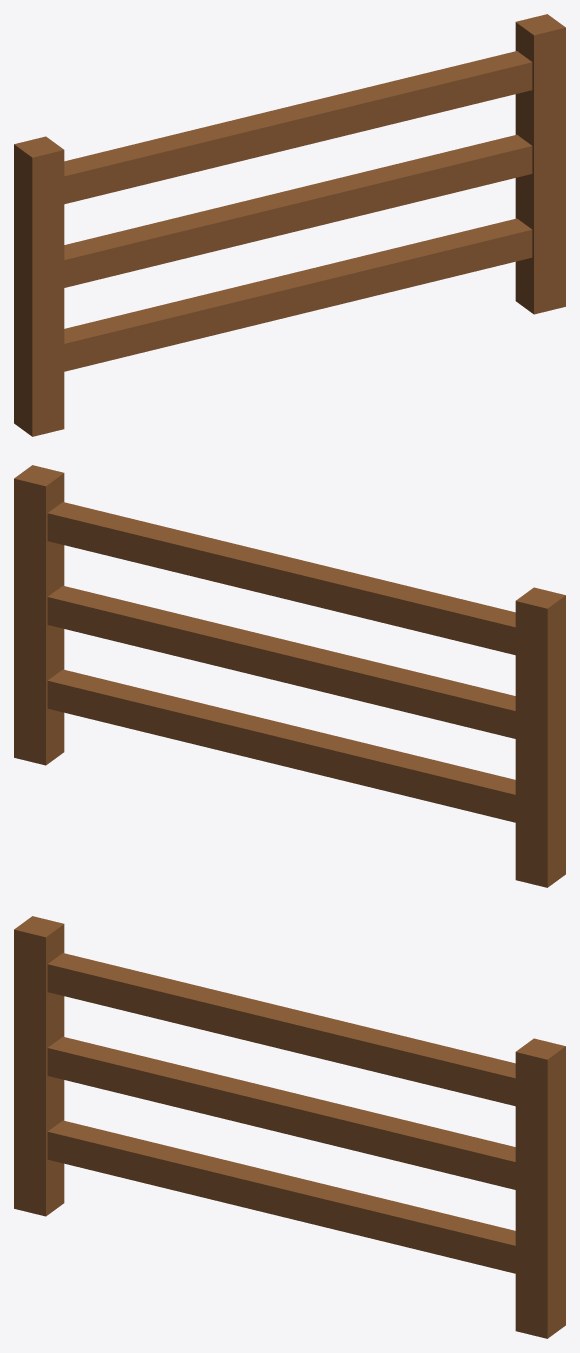
Rendered from fence.glb.
The picture shows the model from 3 angles, top to bottom: view 1: azimuth 30°, elevation 25°; view 2: azimuth 150°, elevation 25°; view 3: azimuth 330°, elevation 25°; orthographic projection.
Visible parts, largest first — view 1: fence; view 2: fence; view 3: fence.
Boxes of the visible parts, x1,y1,x2,y2 form: fence: (14,14,565,436); fence: (14,465,565,887); fence: (14,916,565,1338).
Bounding box in the file's own units: 2 × 1 × 0.12.
